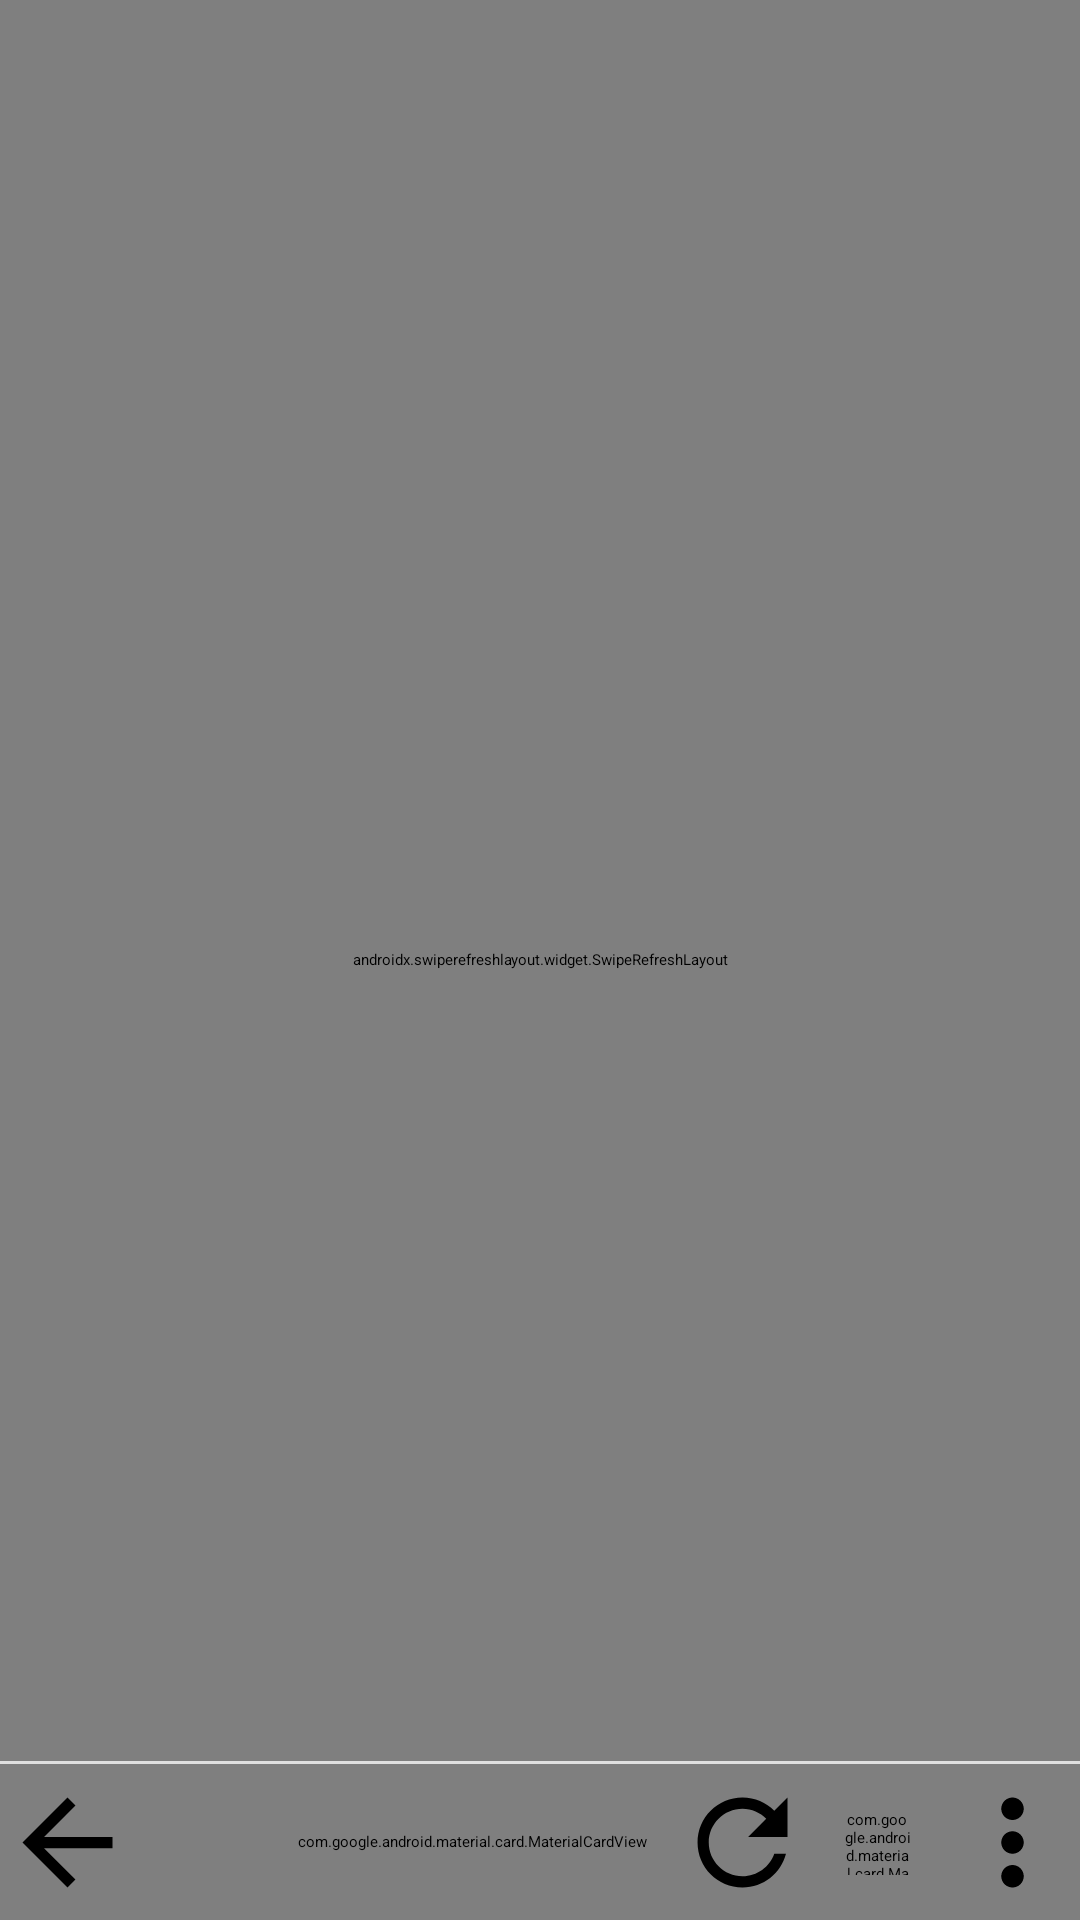

Named icons in this screenshot (1080 x 1920) and their centers, (x,y):
Back: (67,1842)
More options: (1012,1842)
